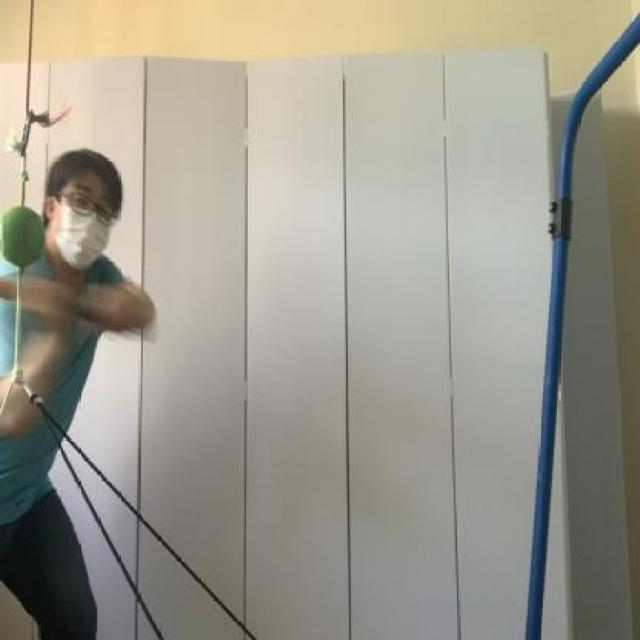baseball: (0, 194, 48, 275)
